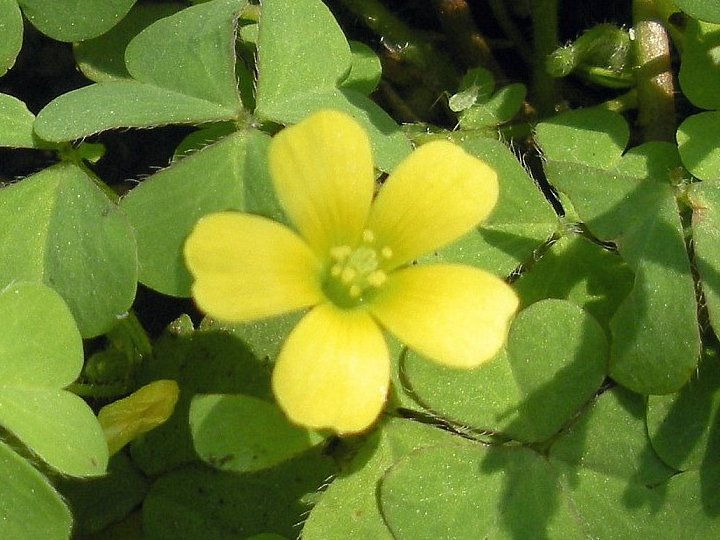oxalis: (455, 70, 720, 389), (3, 95, 172, 527), (89, 28, 379, 265)
